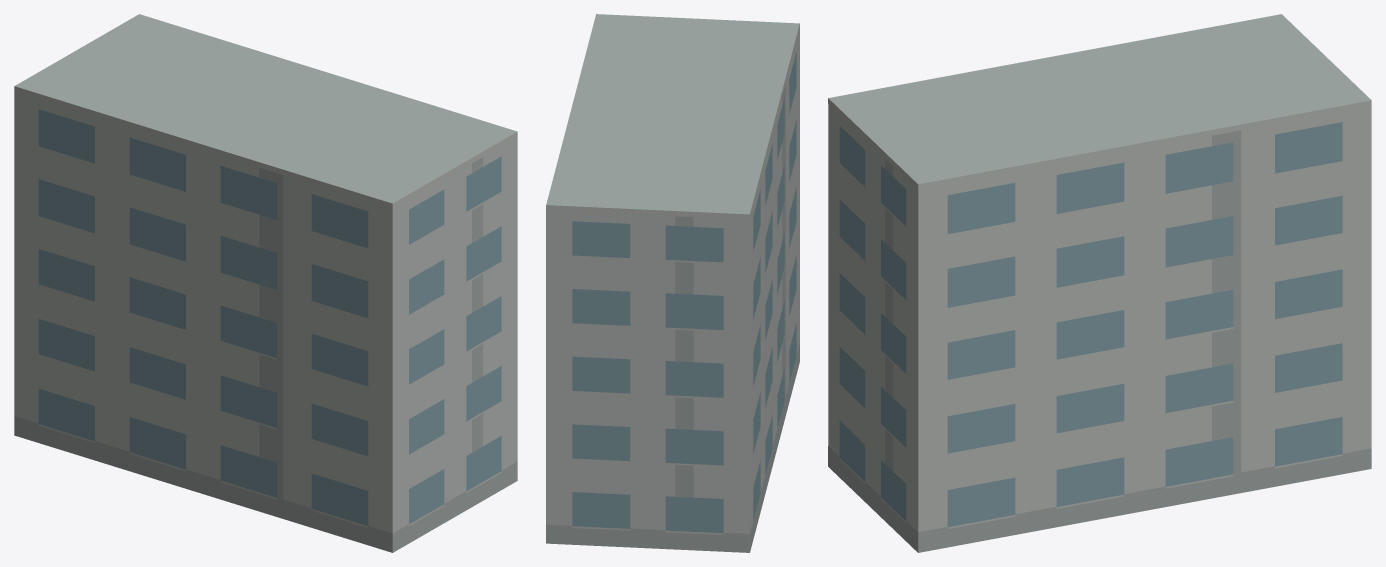
File: survey-upis-32578018.glb
3 renders of one model, left to right at view 1: azimuth 30°, elevation 25°; view 2: azimuth 150°, elevation 25°; view 3: azimuth 270°, elevation 25°, orthographic. The views are drawn at different scales.
Visible parts, largest first — view 1: survey-upis-32578018.tmp; view 2: survey-upis-32578018.tmp; view 3: survey-upis-32578018.tmp.
Part boxes in pixels (bbox=[...]): survey-upis-32578018.tmp: bbox=[14, 14, 517, 552]; survey-upis-32578018.tmp: bbox=[546, 14, 799, 552]; survey-upis-32578018.tmp: bbox=[828, 14, 1371, 552].
Bounding box in the file's own units: 15.28 × 15.4 × 20.59.
